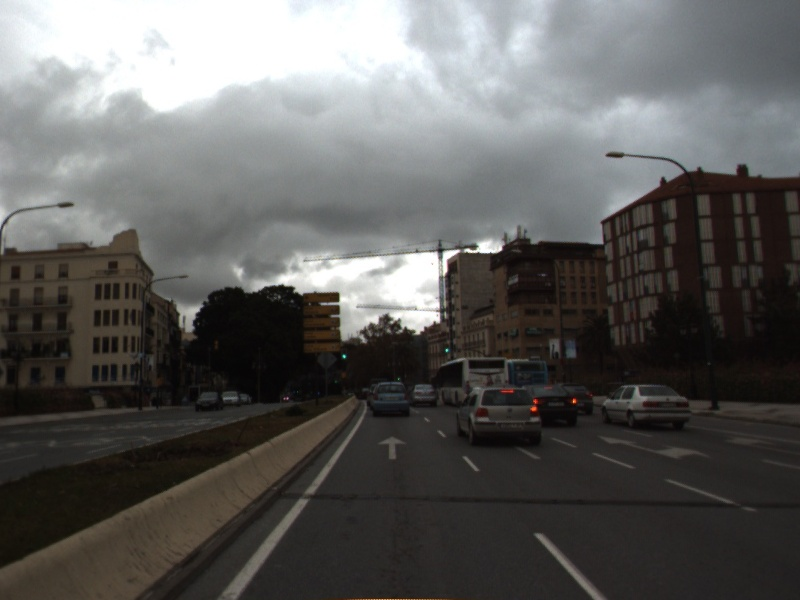RIGHT: (721, 433, 800, 456)
STRAIGHT: (376, 433, 410, 461)
STRAIGHT_RIGHT: (595, 433, 716, 461)
